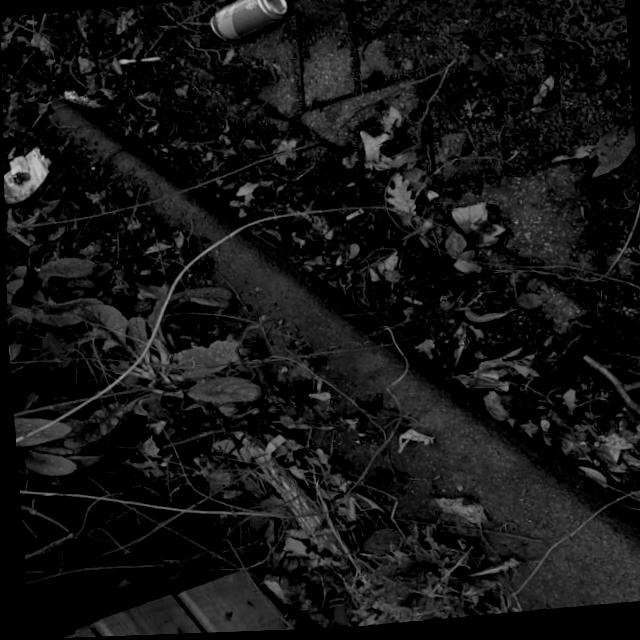Can-Metal: (206, 0, 295, 46), (3, 143, 55, 205)
